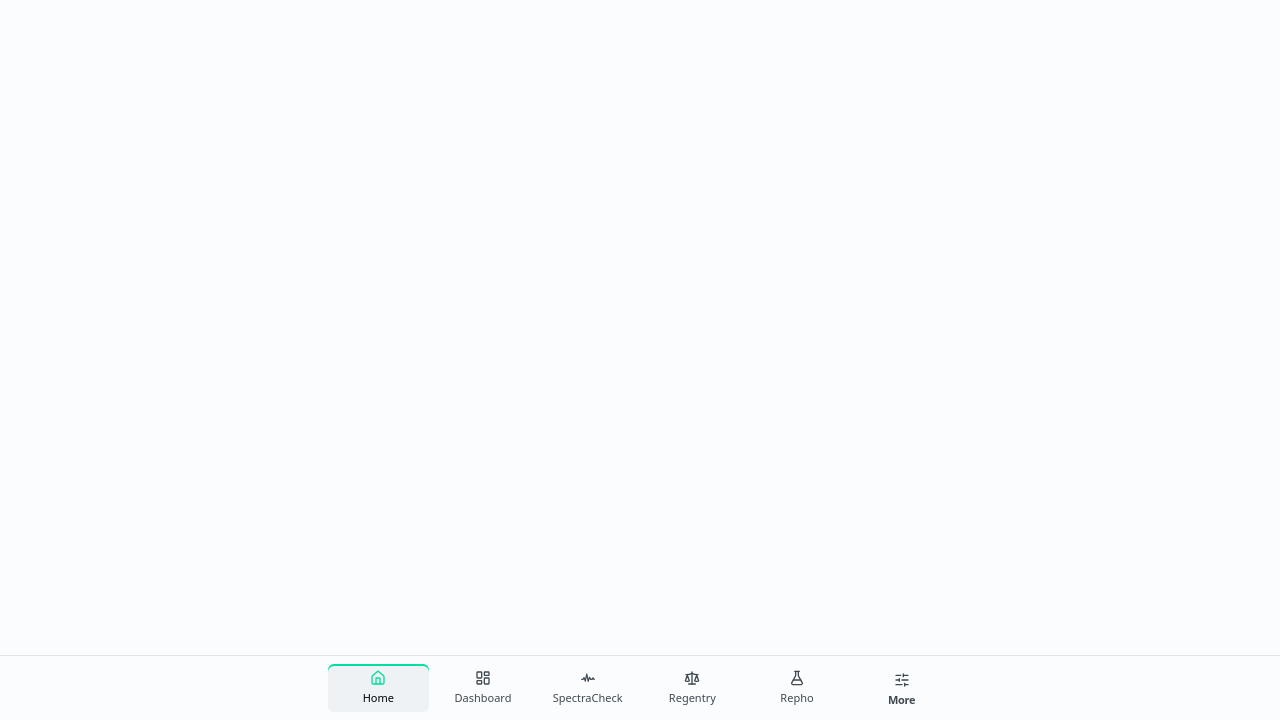
MobileBottomNav › dismisses the More sheet when a destination inside it is tapped
Click the button "More". click: (902, 688)
box: [851,664,952,712]
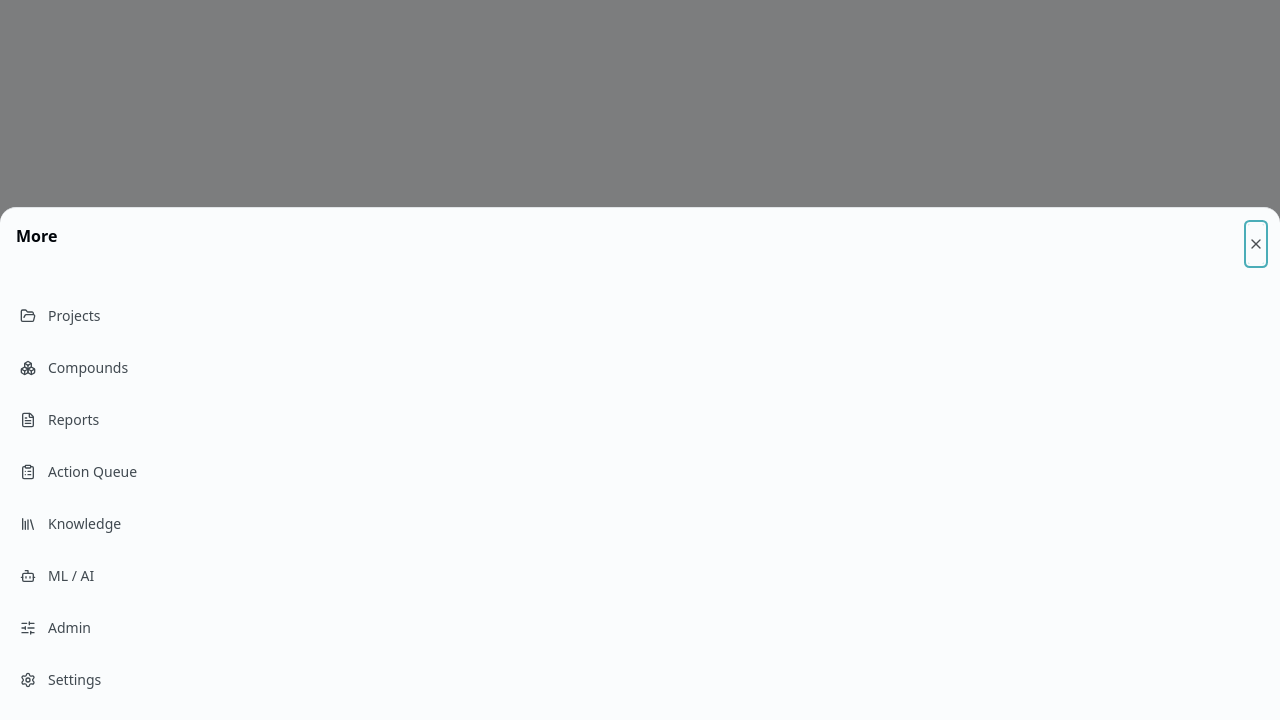
Expected: the link "Projects" is shown
Click the link "Projects". click: (60, 316)
box: [20,306,100,325]
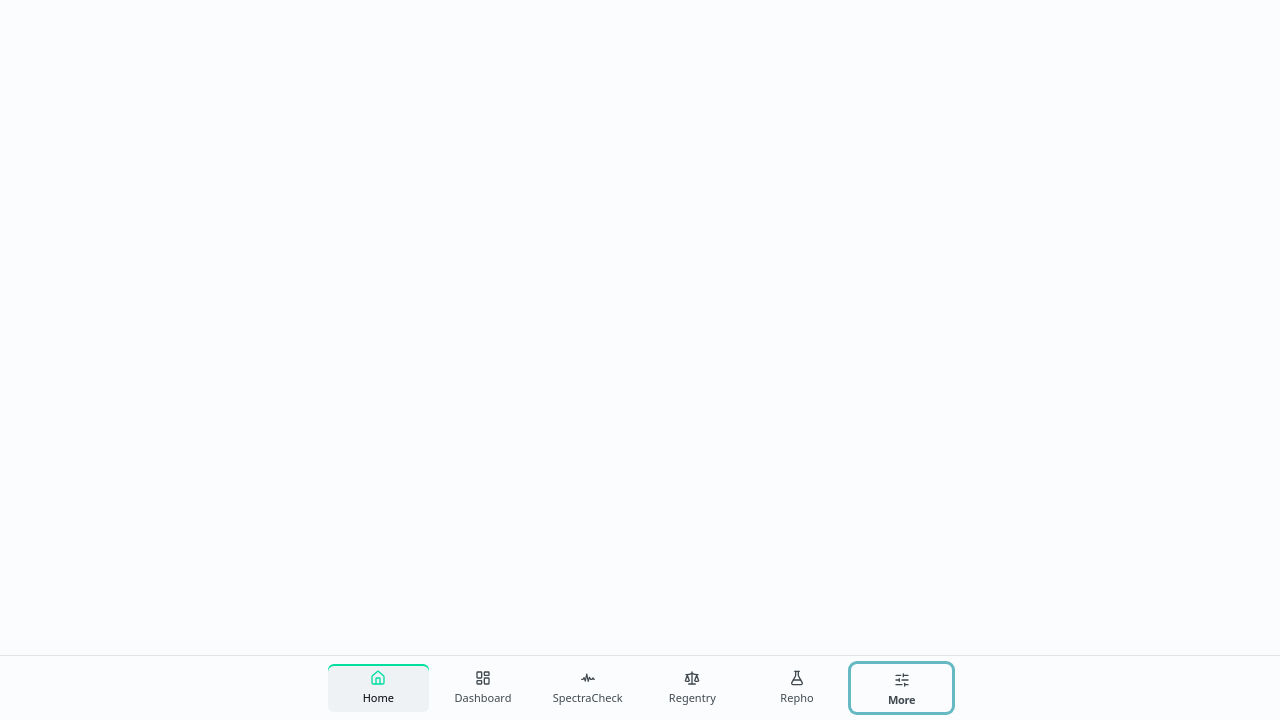
Expected: the link "Projects" is gone
